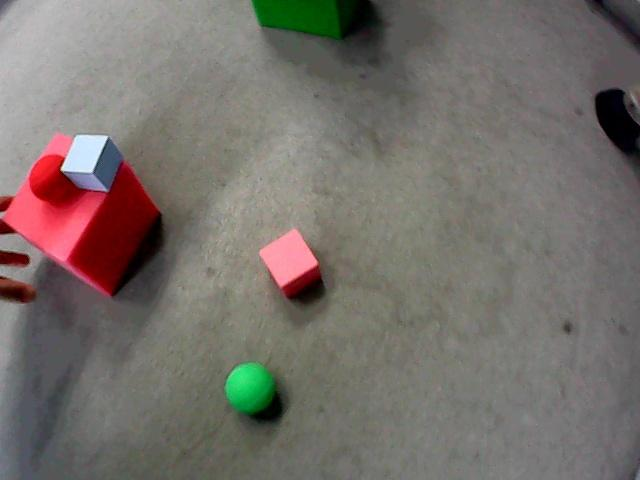blue_block: (61, 135, 122, 191)
red_block: (3, 134, 159, 295), (259, 229, 320, 296)
